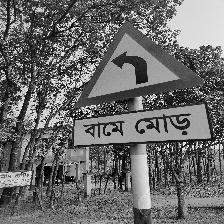Left-Turn: (69, 20, 213, 147)
